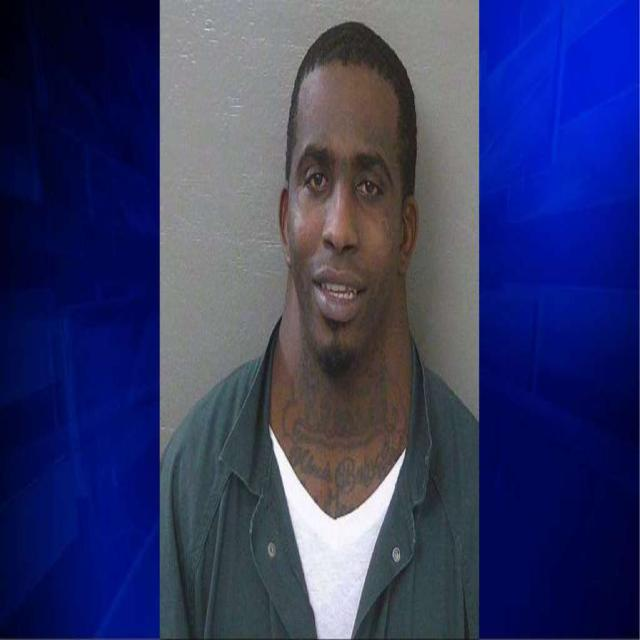mobile_phonerotation: (158, 19, 480, 637)
